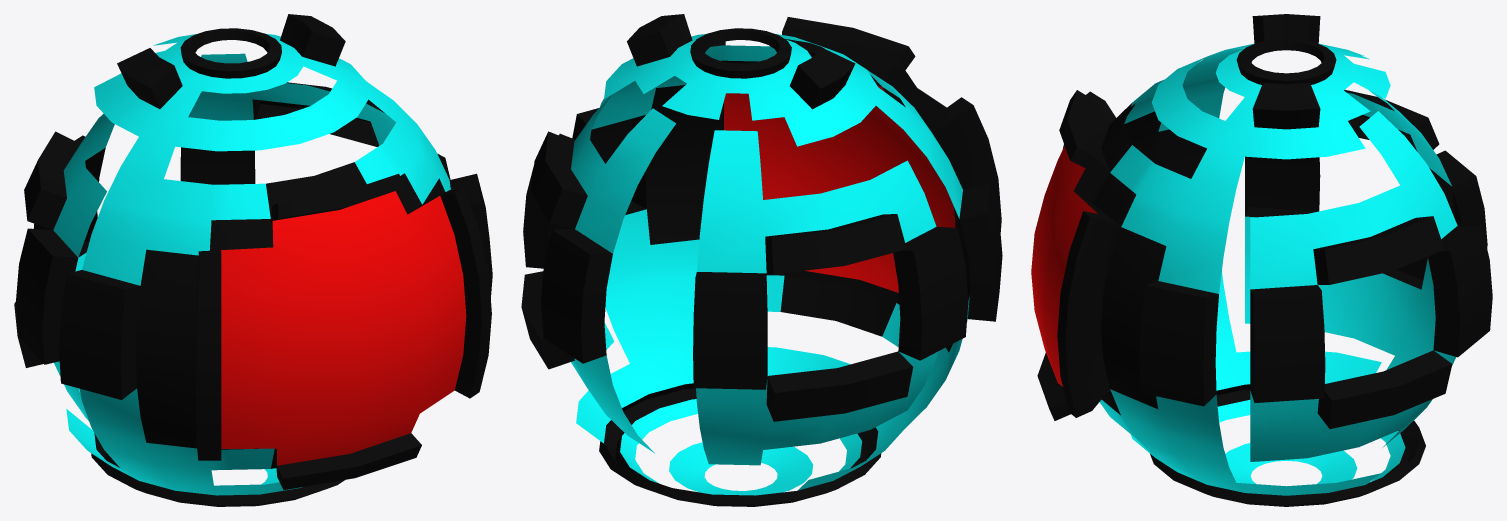
The model's file is dashEnemy.obj.
3 views of the same model, side by side, from view 1: azimuth 30°, elevation 25°; view 2: azimuth 150°, elevation 25°; view 3: azimuth 270°, elevation 25° (orthographic). The views are drawn at different scales.
Parts seen in each view (by area): view 1: pSphere2; view 2: pSphere2; view 3: pSphere2.
Boxes of the visible parts, box(x1,y1,x2,y2) form: pSphere2: box(14, 14, 492, 506); pSphere2: box(521, 14, 1002, 506); pSphere2: box(1031, 14, 1492, 506).
Bounding box in the file's own units: 2.12 × 2.05 × 2.01.
